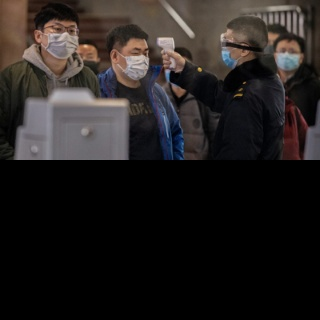with_mask: (41, 22, 80, 60), (120, 46, 150, 80), (220, 32, 243, 70), (275, 44, 301, 72), (76, 50, 98, 72)
